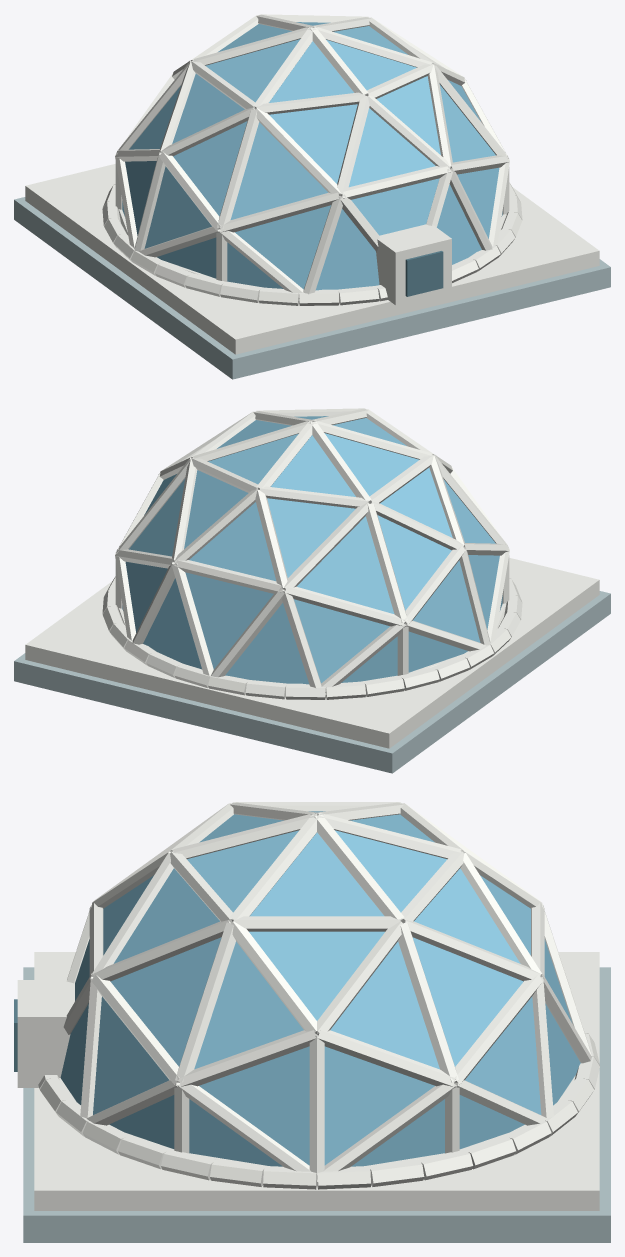
File: 05_geodesic_dome.glb
3 views of the same model, one above another, from view 1: azimuth 30°, elevation 25°; view 2: azimuth 150°, elevation 25°; view 3: azimuth 270°, elevation 25° (orthographic). The views are drawn at different scales.
Visible parts, largest first — view 1: triangular_glass_panel (×22), geodesic_structural_strut (×34), plinth, foundation, equatorial_ring (×6), airlock, airlock_glass; view 2: triangular_glass_panel (×22), geodesic_structural_strut (×34), plinth, foundation, equatorial_ring (×9); view 3: triangular_glass_panel (×25), geodesic_structural_strut (×41), plinth, foundation, equatorial_ring (×14), airlock.
Part boxes in pixels (x1,y1,x2,y2): triangular_glass_panel (×22): (125, 24, 499, 290); geodesic_structural_strut (×34): (115, 14, 509, 298); plinth: (25, 164, 599, 354); foundation: (14, 197, 610, 379); equatorial_ring (×6): (155, 262, 379, 305); airlock: (376, 224, 451, 305); airlock_glass: (405, 251, 443, 296); triangular_glass_panel (×22): (125, 418, 499, 684); geodesic_structural_strut (×34): (115, 408, 509, 692); plinth: (25, 558, 599, 748); foundation: (14, 591, 610, 773); equatorial_ring (×9): (146, 651, 469, 699); triangular_glass_panel (×25): (60, 814, 580, 1166); geodesic_structural_strut (×41): (63, 802, 591, 1181); plinth: (34, 952, 599, 1210); foundation: (23, 967, 610, 1242); equatorial_ring (×14): (40, 1078, 593, 1189); airlock: (17, 980, 74, 1087).
Size of what is drawn, in the model's own units: 3.15 by 1.8 by 3.2.
